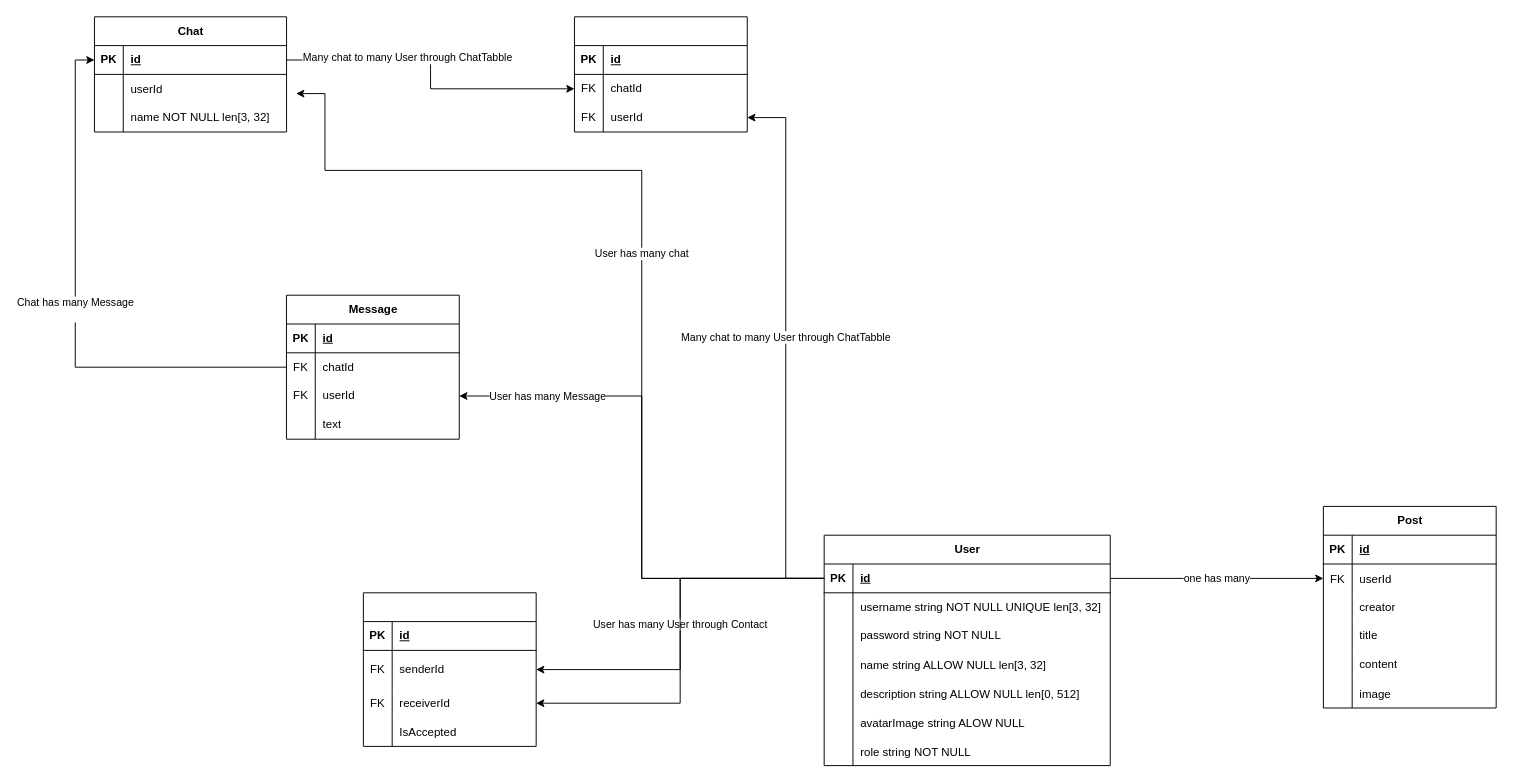
Image size: 1513x782. Some labels were removed from this diagram. The shapes that lost their labels are listed below. From the top down, each one's box as (x1, y1, x2, y2) in pixels, then its label:
(574, 16, 747, 132): ChatTabble
(362, 592, 536, 746): Contact
